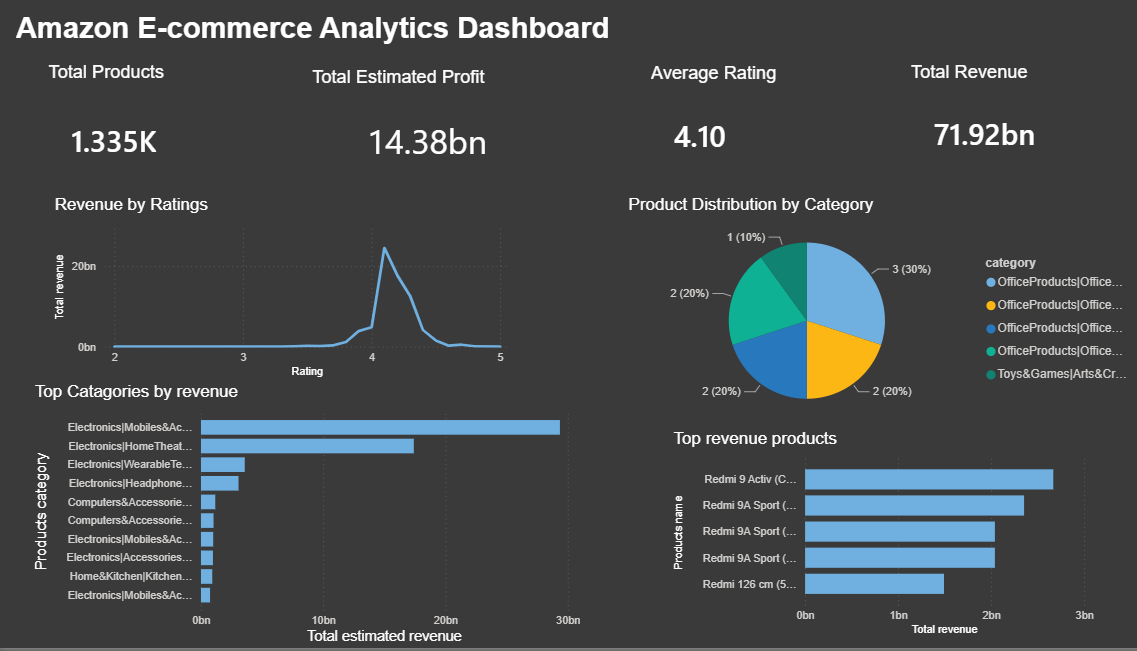

Layout of this report page (visuals, bound fields, positions):
{"tool":"powerbi","page":{"name":"Page 1","canvas":[1280,720],"ordinal":0},"visuals":[{"type":"cardVisual","title":"Total Revenue","fields":{"Data":["Sum(mysql_amazon_data.estimated_revenue)"]},"box":[1019.6,75.5,260.7,183.9],"z":1000},{"type":"cardVisual","fields":{"Data":["Sum(mysql_amazon_data.estimated_profit)"]},"box":[315.6,89.2,260.7,183.9],"z":2000},{"type":"cardVisual","fields":{"Data":["Avg(mysql_amazon_data.rating)"]},"box":[742.4,75.5,260.7,183.9],"z":3000},{"type":"clusteredBarChart","title":"Top Catagories by revenue","fields":{"Category":["mysql_amazon_data.category"],"Y":["Sum(mysql_amazon_data.estimated_revenue)"]},"box":[53.5,347.2,362.3,349.9],"z":4000},{"type":"clusteredBarChart","title":"Top revenue  products","fields":{"Category":["mysql_amazon_data.product_name"],"Y":["Sum(mysql_amazon_data.estimated_revenue)"]},"box":[937.2,535.2,260.7,185.2],"z":5000},{"type":"scatterChart","title":"Price vs Rating","fields":{"X":["Sum(mysql_amazon_data.discounted_price)"],"Y":["Sum(mysql_amazon_data.rating)"],"Size":["Sum(mysql_amazon_data.rating_count)"]},"box":[462.4,226.4,333.4,214.1],"z":6000},{"type":"pieChart","fields":{"Category":["mysql_amazon_data.category"],"Y":["CountNonNull(mysql_amazon_data.product_name)"]},"box":[443.2,467.9,392.5,242.9],"z":7000},{"type":"lineChart","title":"Revenue by Ratings","fields":{"Category":["mysql_amazon_data.rating"],"Y":["Sum(mysql_amazon_data.estimated_revenue)"]},"box":[889.2,317,260.7,183.9],"z":8000},{"type":"textbox","box":[31.6,16.5,828.8,59],"z":9001},{"type":"cardVisual","fields":{"Data":["CountNonNull(mysql_amazon_data.product_name)"]},"box":[53.5,89.2,260.7,183.9],"z":9002}]}

Visuals, with their boxes in screenshot pixels (x1, y1, x2, y2), scaled from the page's 1280x720 canvas onto the 1137x651 screenshot:
"Total Revenue" cardVisual: select_region(906, 68, 1136, 235)
cardVisual - Sum(mysql_amazon_data.estimated_profit): select_region(280, 81, 512, 247)
cardVisual - Avg(mysql_amazon_data.rating): select_region(659, 68, 891, 235)
"Top Catagories by revenue" clusteredBarChart: select_region(48, 314, 369, 630)
"Top revenue  products" clusteredBarChart: select_region(832, 484, 1064, 650)
"Price vs Rating" scatterChart: select_region(411, 205, 707, 398)
pieChart - mysql_amazon_data.category x CountNonNull(mysql_amazon_data.product_name): select_region(394, 423, 742, 643)
"Revenue by Ratings" lineChart: select_region(790, 287, 1021, 453)
textbox: select_region(28, 15, 764, 68)
cardVisual - CountNonNull(mysql_amazon_data.product_name): select_region(48, 81, 279, 247)
